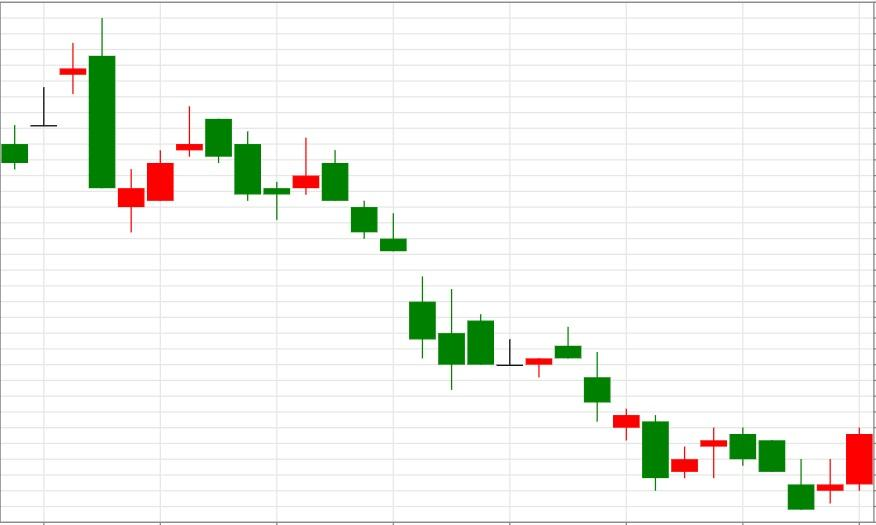bearish_engulfing_fall: (0, 17, 116, 189)
three_black_crows_fall: (233, 130, 408, 254)
